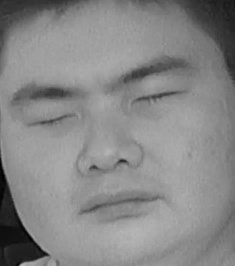blink: (129, 80, 184, 115), (28, 104, 75, 137)
mouth: (78, 178, 165, 226)
